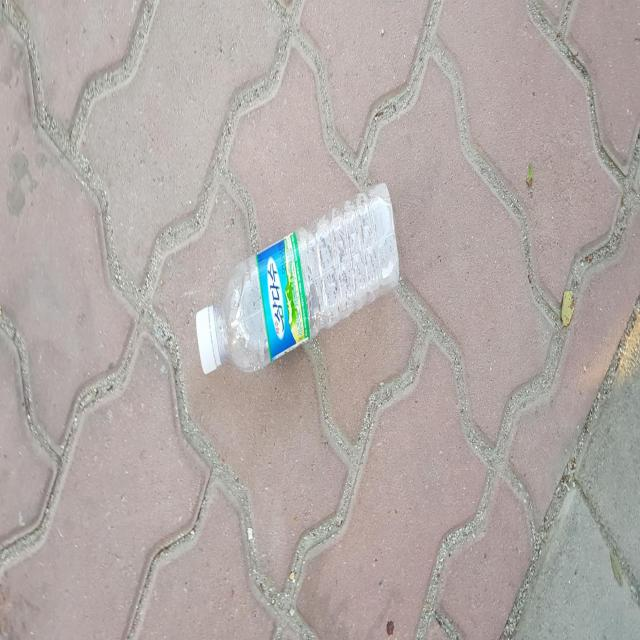plastic: (196, 182, 399, 374)
